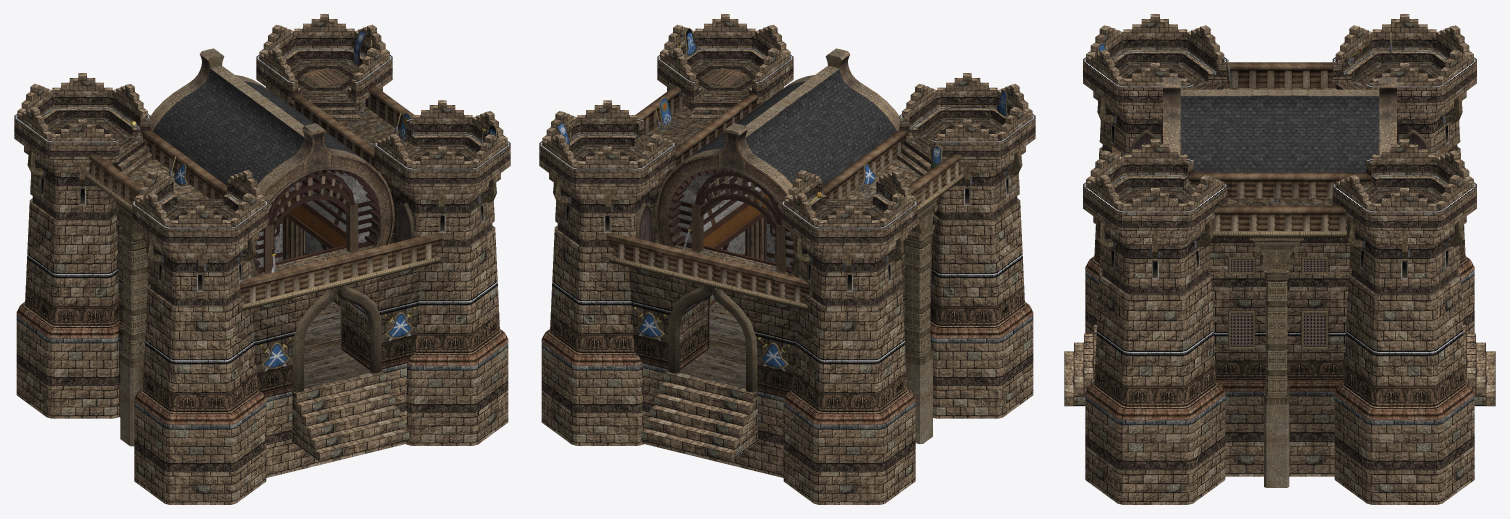
File: maur_fortress.glb
3 views of the same model, side by side, from view 1: azimuth 30°, elevation 25°; view 2: azimuth 150°, elevation 25°; view 3: azimuth 270°, elevation 25° (orthographic). The views are drawn at different scales.
Visible parts, largest first — view 1: maur_fortress_part0, maur_fortress_part7, maur_fortress_part2; view 2: maur_fortress_part0, maur_fortress_part7, maur_fortress_part2, maur_fortress_part8; view 3: maur_fortress_part0, maur_fortress_part7.
Boxes of the visible parts, left/top/right/bottom form: maur_fortress_part0: left=14, top=14, right=510, bottom=504; maur_fortress_part7: left=40, top=33, right=484, bottom=388; maur_fortress_part2: left=174, top=163, right=413, bottom=368; maur_fortress_part0: left=539, top=14, right=1035, bottom=504; maur_fortress_part7: left=565, top=68, right=1009, bottom=388; maur_fortress_part2: left=636, top=163, right=875, bottom=368; maur_fortress_part8: left=633, top=41, right=893, bottom=371; maur_fortress_part0: left=1064, top=14, right=1495, bottom=504; maur_fortress_part7: left=1110, top=95, right=1449, bottom=404.
Size of the model in its own units: 5.93 by 5.15 by 6.
Materials: 9 (9 with a texture image).
